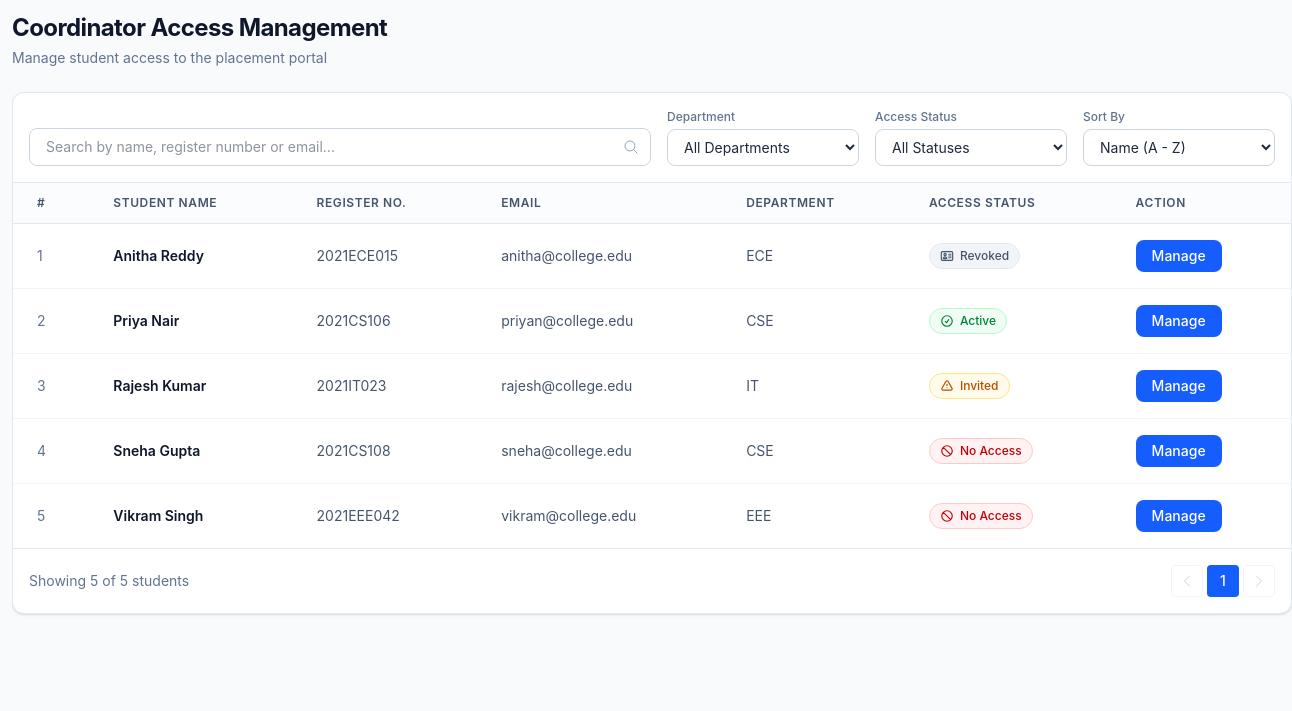
Coordinator Access Management - Lifecycle Implementation › Student Access Directory › navigates to student detail page with correct ID when Manage is clicked
The image size is (1292, 711).
Expected: the text "Sneha Gupta" is shown, [89, 418, 292, 484]
Click the button "Manage" in the row of "Anitha Reddy".
click(1179, 256)  # box [1136, 240, 1222, 272]
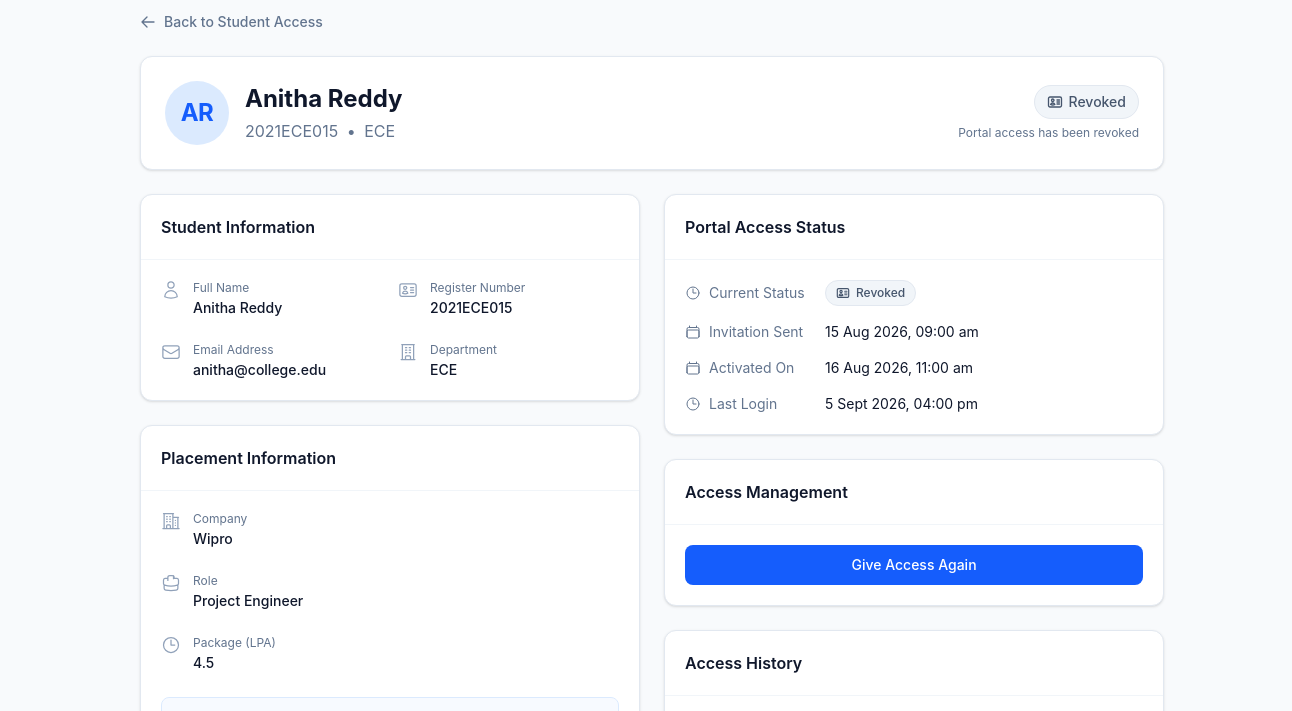
Result: the heading "Student Information" is shown at [161, 217, 315, 237]
Result: the heading "Placement Information" is shown at [161, 448, 336, 468]
